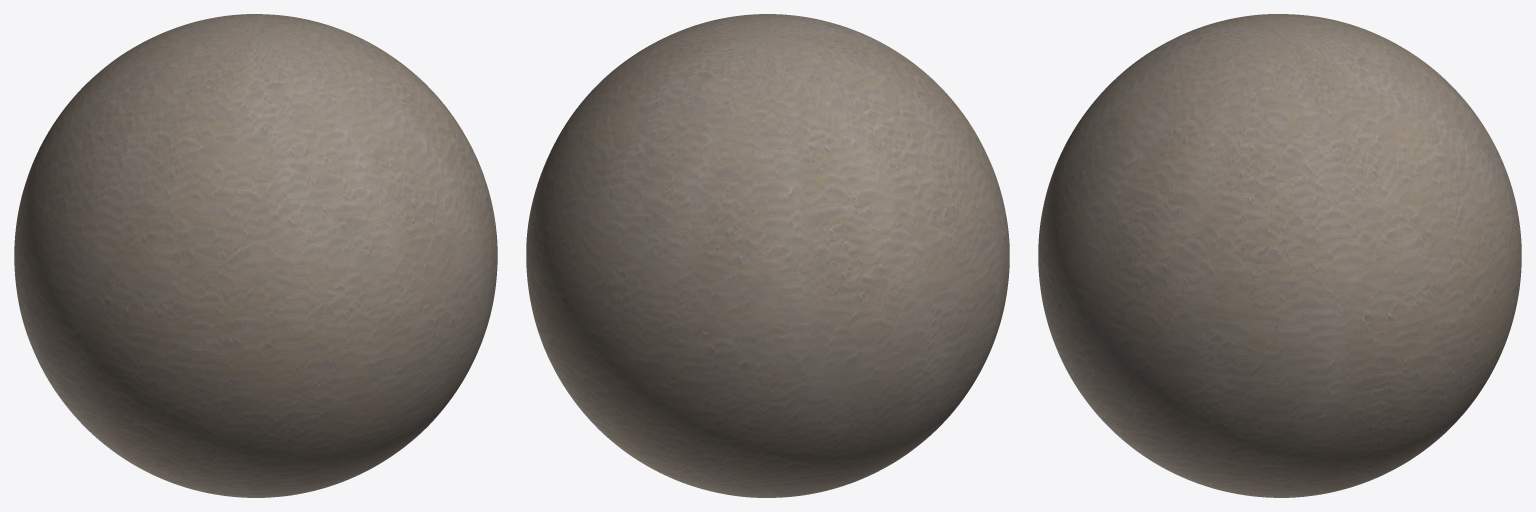
The model's file is aerial_beach_01_4k.gltf.
The picture shows the model from 3 angles, left to right: view 1: azimuth 30°, elevation 25°; view 2: azimuth 150°, elevation 25°; view 3: azimuth 270°, elevation 25°; orthographic projection.
Visible parts, largest first — view 1: sphere_gltf; view 2: sphere_gltf; view 3: sphere_gltf.
Part boxes in pixels (<box>): sphere_gltf: <box>14,14,497,497</box>; sphere_gltf: <box>526,14,1009,497</box>; sphere_gltf: <box>1038,14,1521,497</box>.
Size of the model in its own units: 29.98 by 30.02 by 29.98.
Materials: 1 (1 with a texture image).
